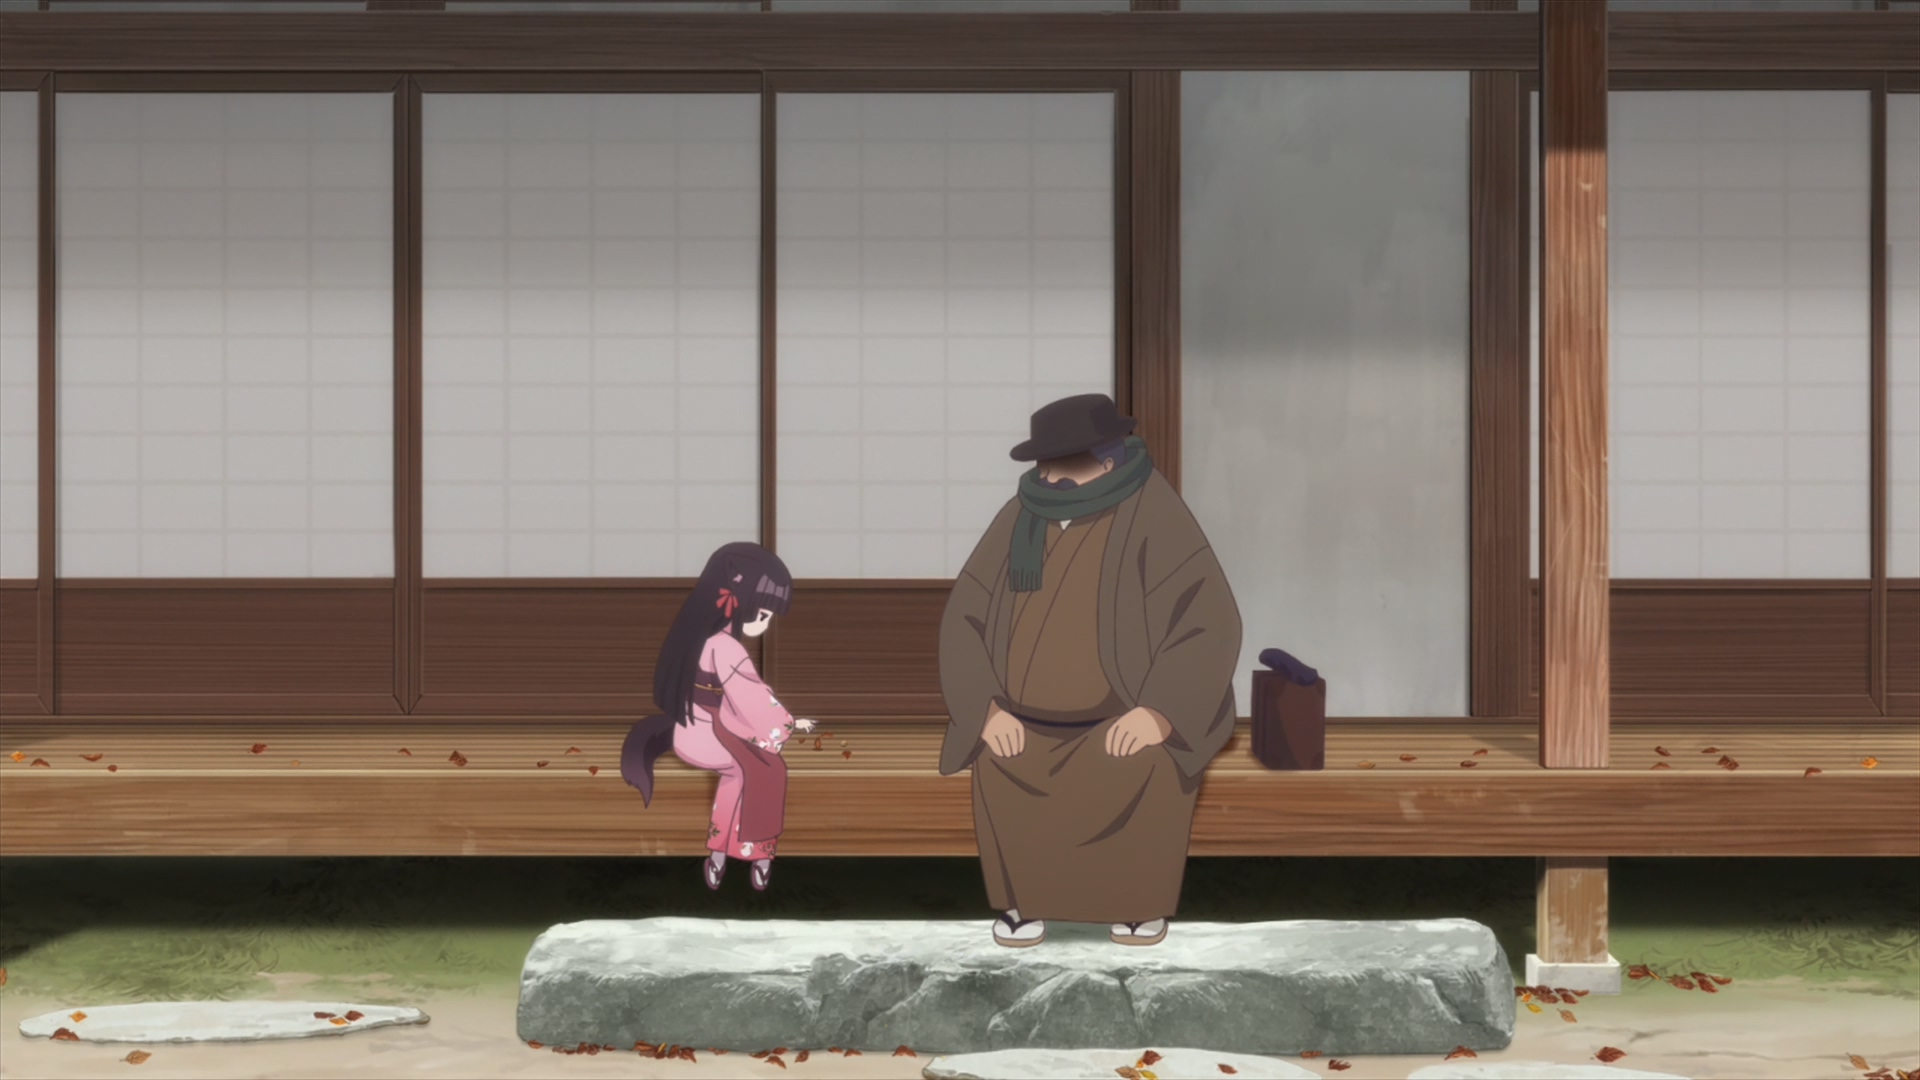其他: (939, 396, 1241, 945)
樱: (622, 541, 819, 891)
